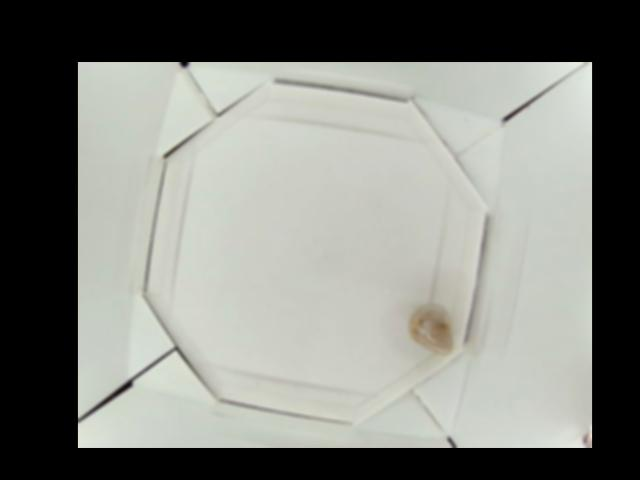Pebble: (407, 302, 453, 355)
